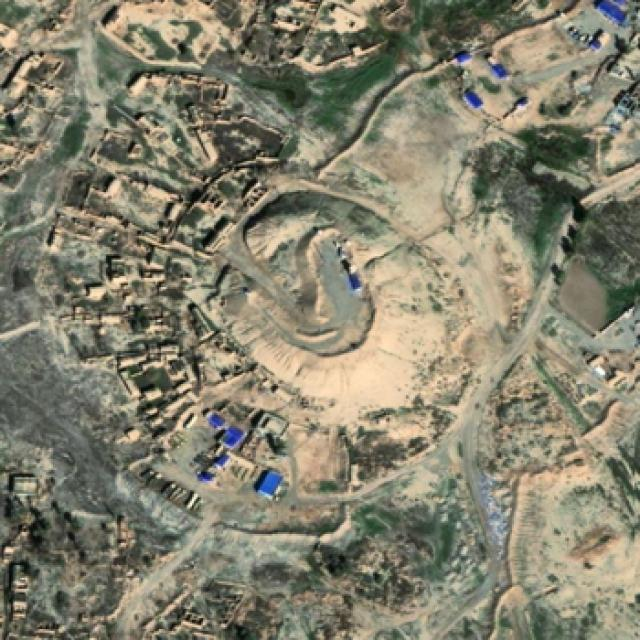artifacts: (55, 226, 203, 399), (113, 70, 257, 204), (2, 46, 74, 184), (51, 201, 139, 255), (269, 1, 324, 41)
ruins: (312, 68, 494, 242), (252, 216, 369, 344), (546, 184, 636, 338), (482, 9, 613, 89), (99, 2, 227, 69), (288, 426, 348, 498), (573, 398, 633, 462), (489, 584, 537, 636)
vegetation: (346, 482, 450, 574), (237, 56, 346, 119)
